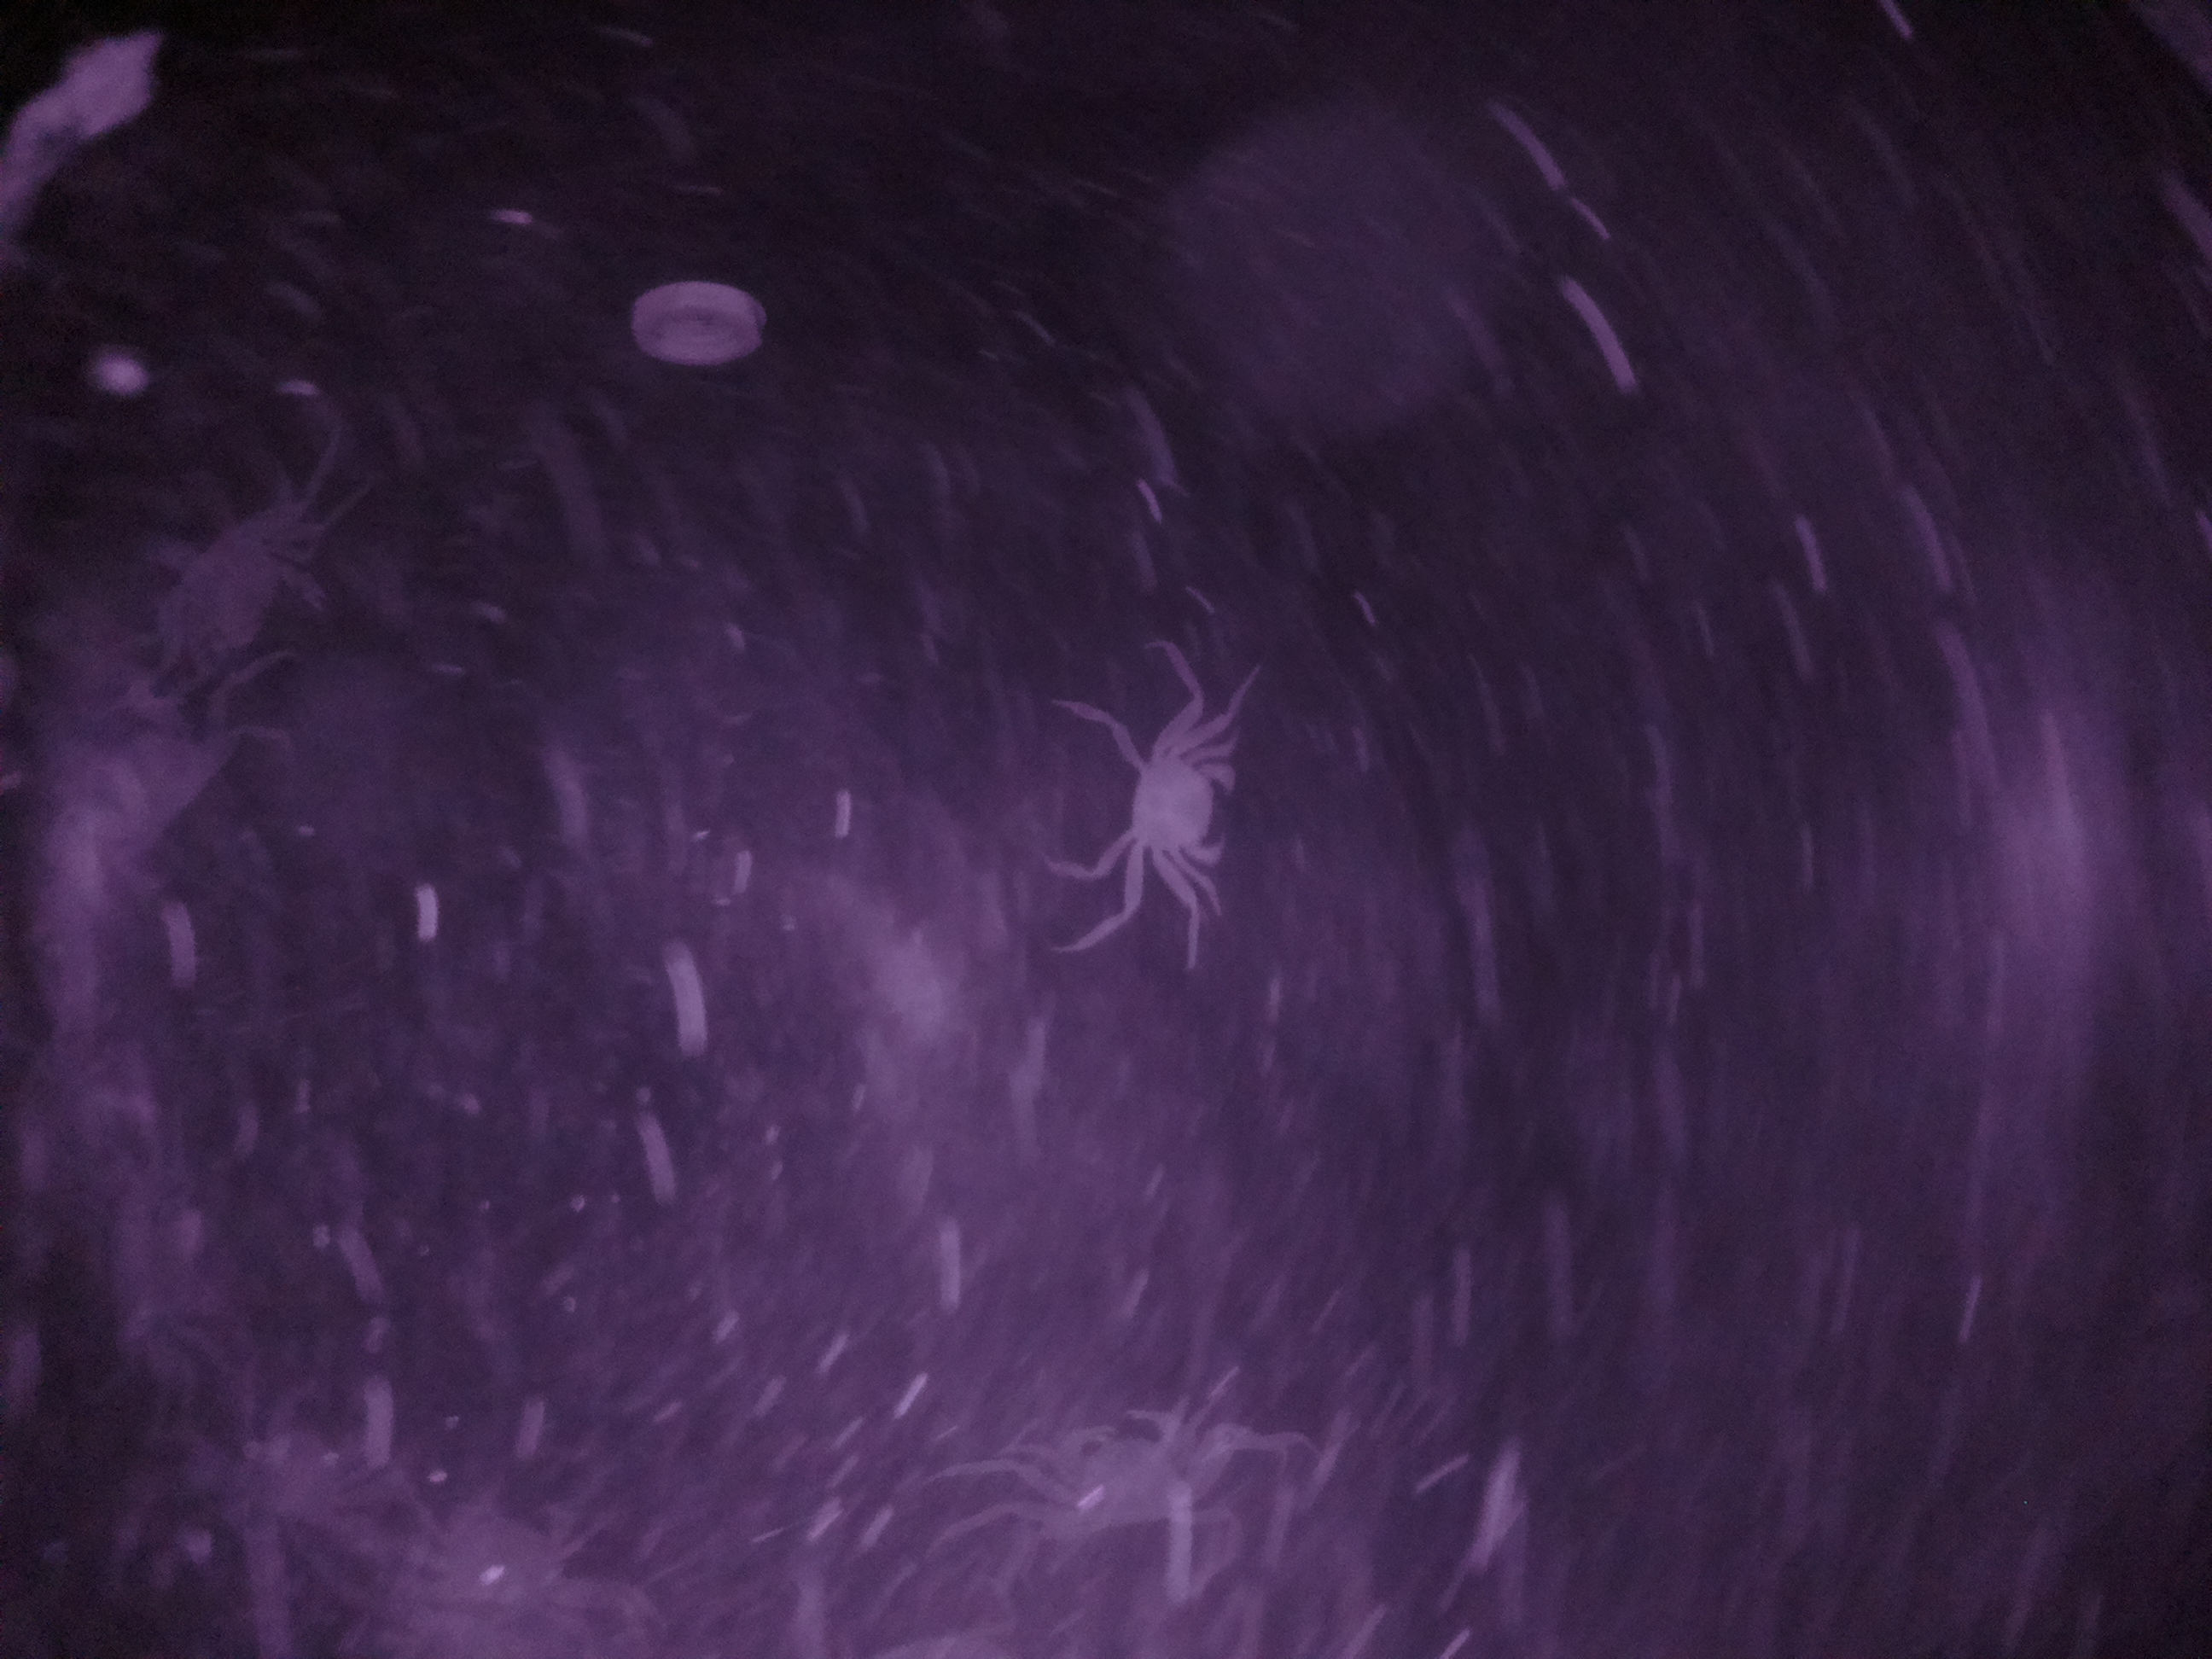Crab: (1055, 727, 1273, 896)
